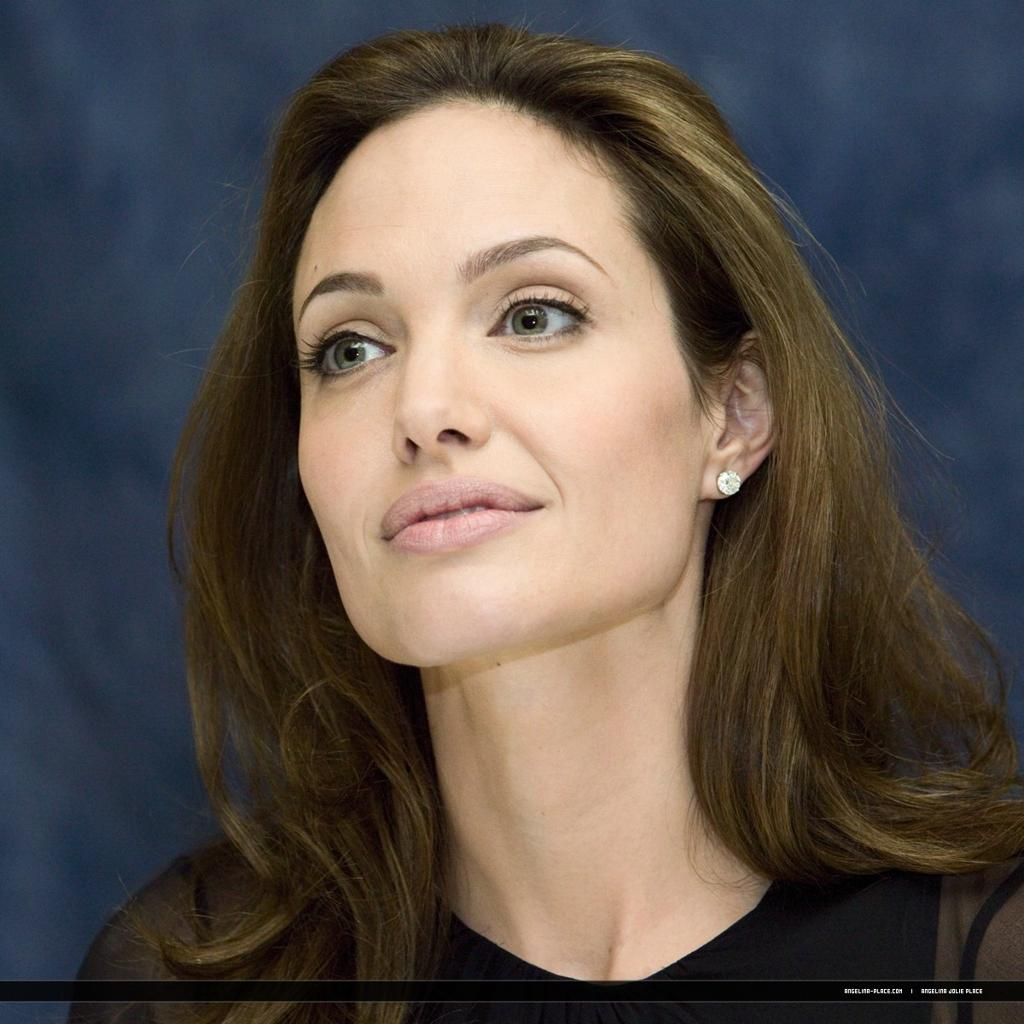face: (296, 124, 696, 666)
